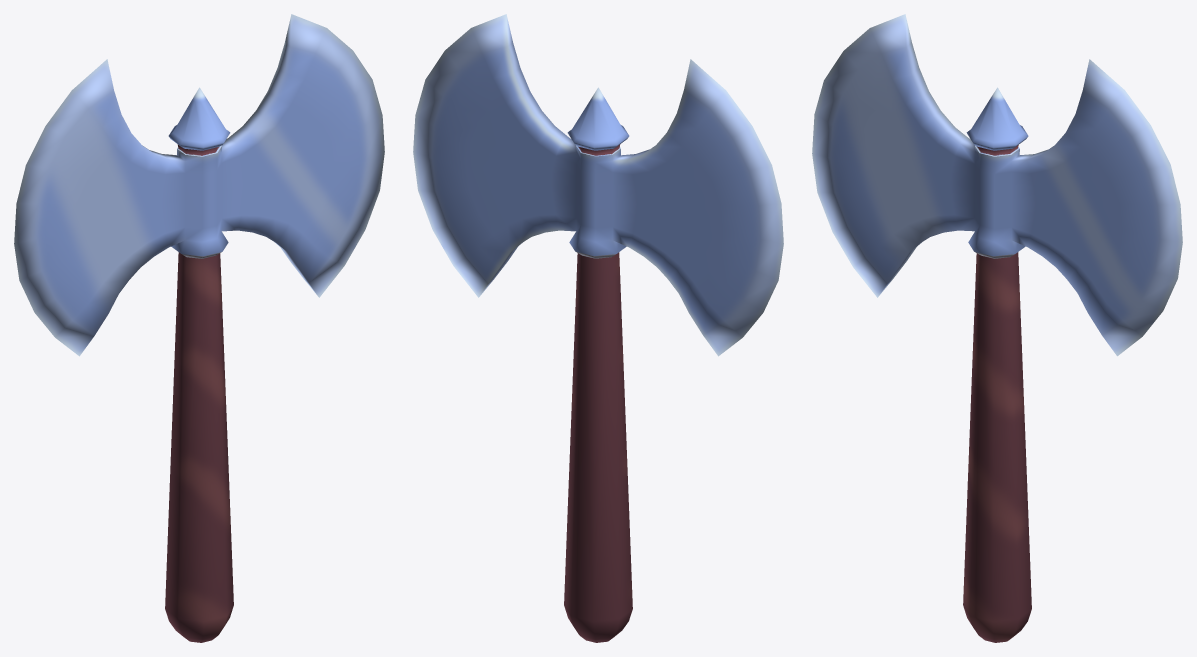
Rendered from axe.fbx.
The picture shows the model from 3 angles, left to right: view 1: azimuth 30°, elevation 25°; view 2: azimuth 150°, elevation 25°; view 3: azimuth 330°, elevation 25°; orthographic projection.
Parts seen in each view (by area): view 1: axe; view 2: axe; view 3: axe.
Boxes of the visible parts, bbox=[...] form: axe: bbox=[14, 14, 384, 642]; axe: bbox=[413, 14, 783, 642]; axe: bbox=[812, 14, 1182, 642].
Size of the model in its own units: 0.6724 by 1.04 by 0.1008.
Materials: 1 (1 with a texture image).
